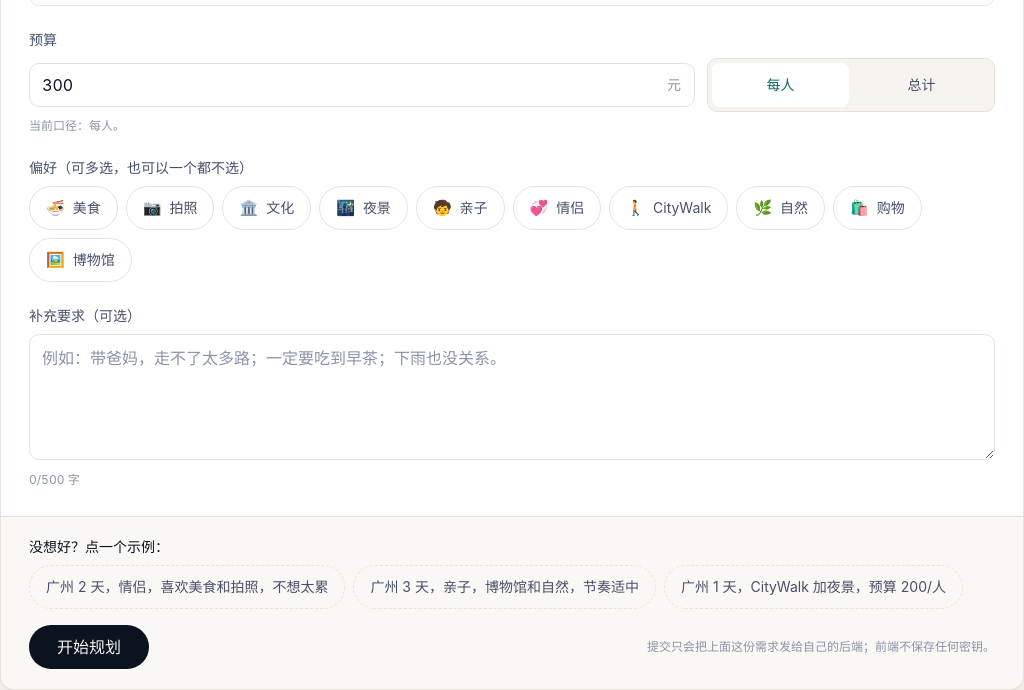
Test: 提交后的进度流 › 收到 plan.progress 后显示阶段与百分比
(page scrolled)
Click the button "开始规划": coordinates (89, 647) [29,625,149,669]
(page scrolled)
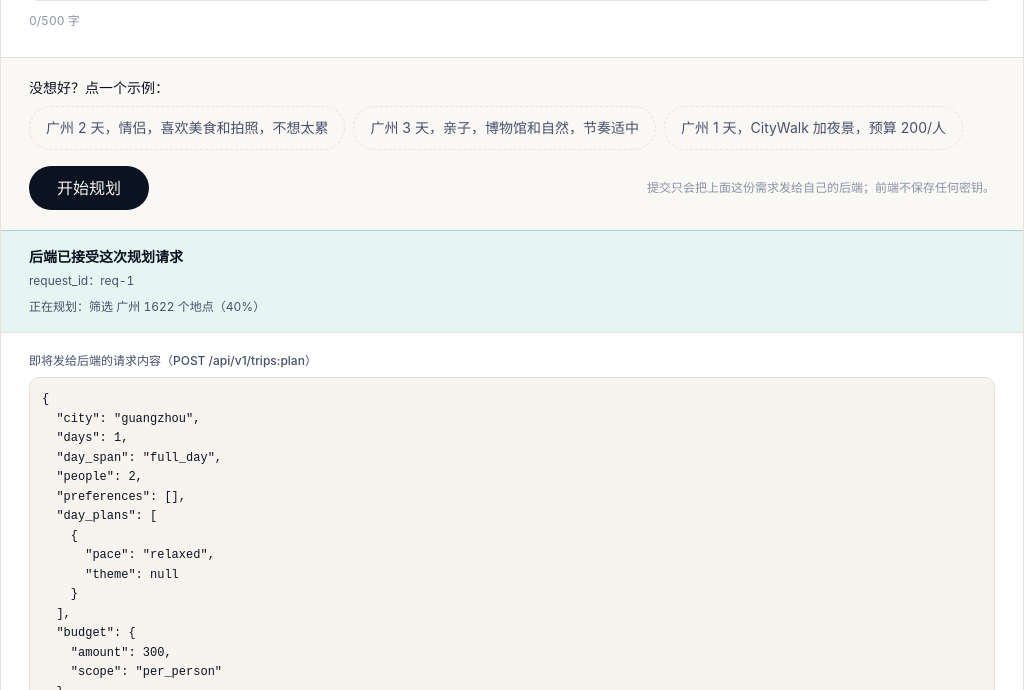
expect the text "正在规划：筛选 广州 1622 个地点（40%）" is shown: met, box [29,299,265,314]
